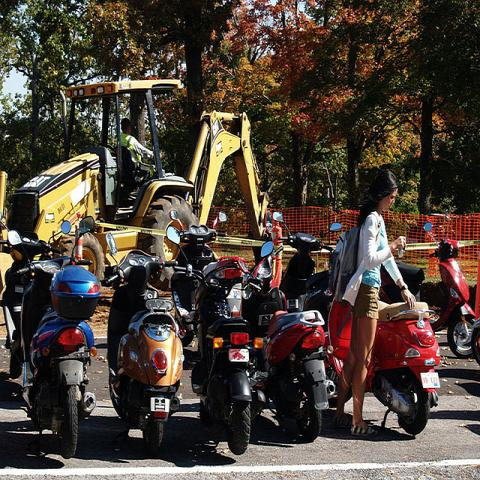motorcycle: (165, 225, 266, 456), (7, 215, 101, 457), (105, 232, 186, 454), (242, 250, 336, 439), (326, 301, 441, 440), (379, 209, 477, 360), (275, 214, 337, 317)
